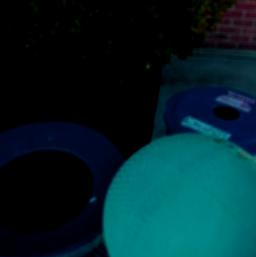algae: (100, 135, 256, 257)
